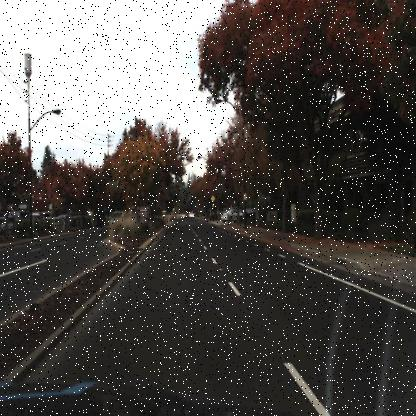car: (220, 208, 244, 224), (108, 208, 124, 226)
